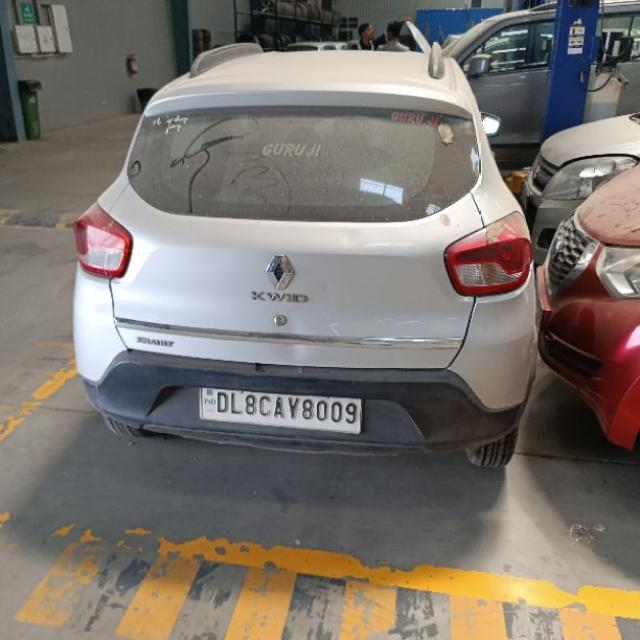license_plate: (196, 385, 363, 434)
